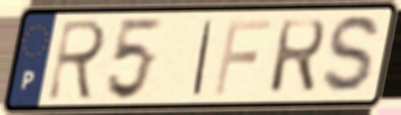5: (105, 16, 168, 103)
F: (211, 17, 274, 98)
I: (189, 18, 216, 98)
R: (44, 17, 110, 104), (266, 16, 328, 96)
S: (318, 12, 385, 99)
